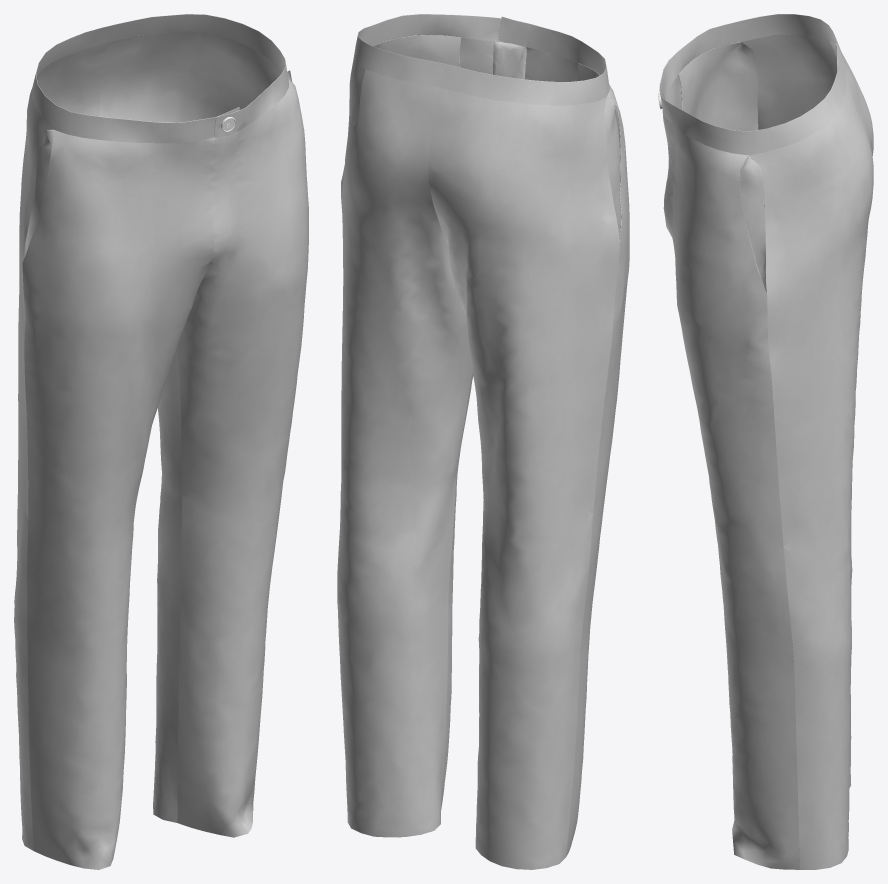
3 views of the same model, side by side, from view 1: azimuth 30°, elevation 25°; view 2: azimuth 150°, elevation 25°; view 3: azimuth 270°, elevation 25° (orthographic). The views are drawn at different scales.
Parts seen in each view (by area): view 1: Pattern_3489167, Pattern_500159; view 2: Pattern_3489167, Pattern_500159; view 3: Pattern_3489167, Pattern_500159.
Boxes of the visible parts, x1,y1,x2,y2 form: Pattern_3489167: (14,31,308,869); Pattern_500159: (32,14,288,143); Pattern_3489167: (337,35,629,869); Pattern_500159: (353,14,609,105); Pattern_3489167: (662,34,873,869); Pattern_500159: (659,14,846,155).
Bounding box in the file's own units: 38.7 × 106 × 26.94.
4 materials, 3 textured.
